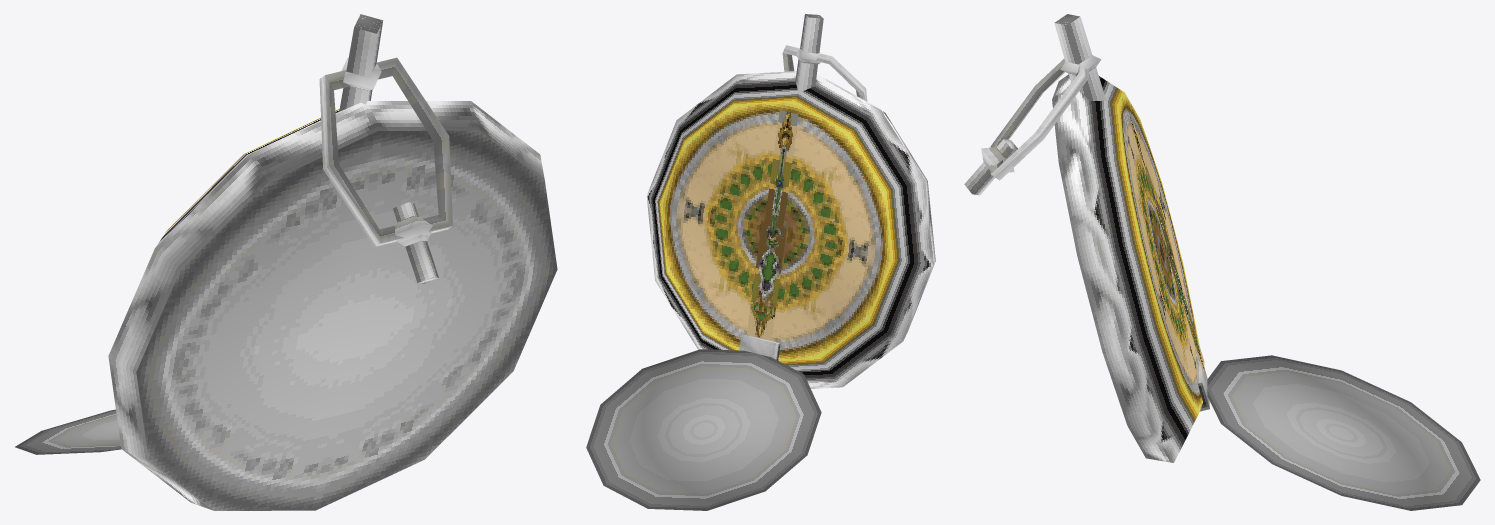
File: ps2_save-icons_aamegami-sama.glb
3 views of the same model, side by side, from view 1: azimuth 30°, elevation 25°; view 2: azimuth 150°, elevation 25°; view 3: azimuth 270°, elevation 25° (orthographic). The views are drawn at different scales.
Parts seen in each view (by area): view 1: icon1.ico; view 2: icon1.ico; view 3: icon1.ico.
Boxes of the visible parts, <box> form: icon1.ico: <box>15,14,557,510</box>; icon1.ico: <box>586,14,935,510</box>; icon1.ico: <box>964,14,1480,510</box>.
Bounding box in the file's own units: 3.03 × 3.77 × 3.8.
Materials: 1 (1 with a texture image).
